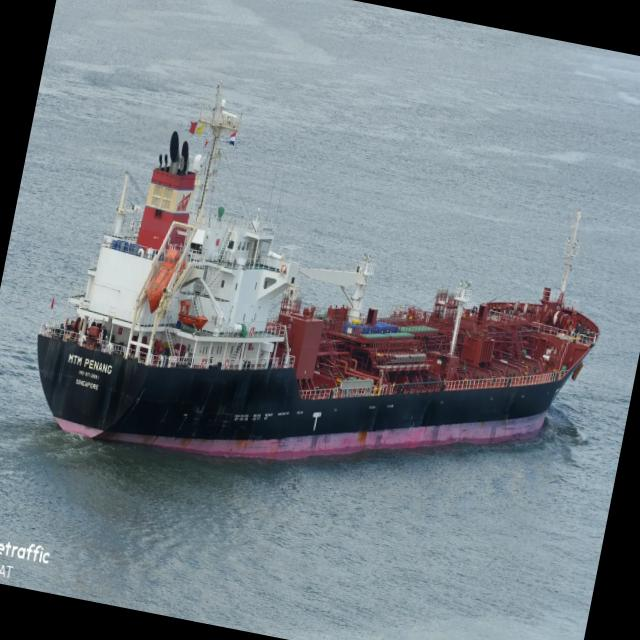Tanker: (38, 101, 598, 459)
